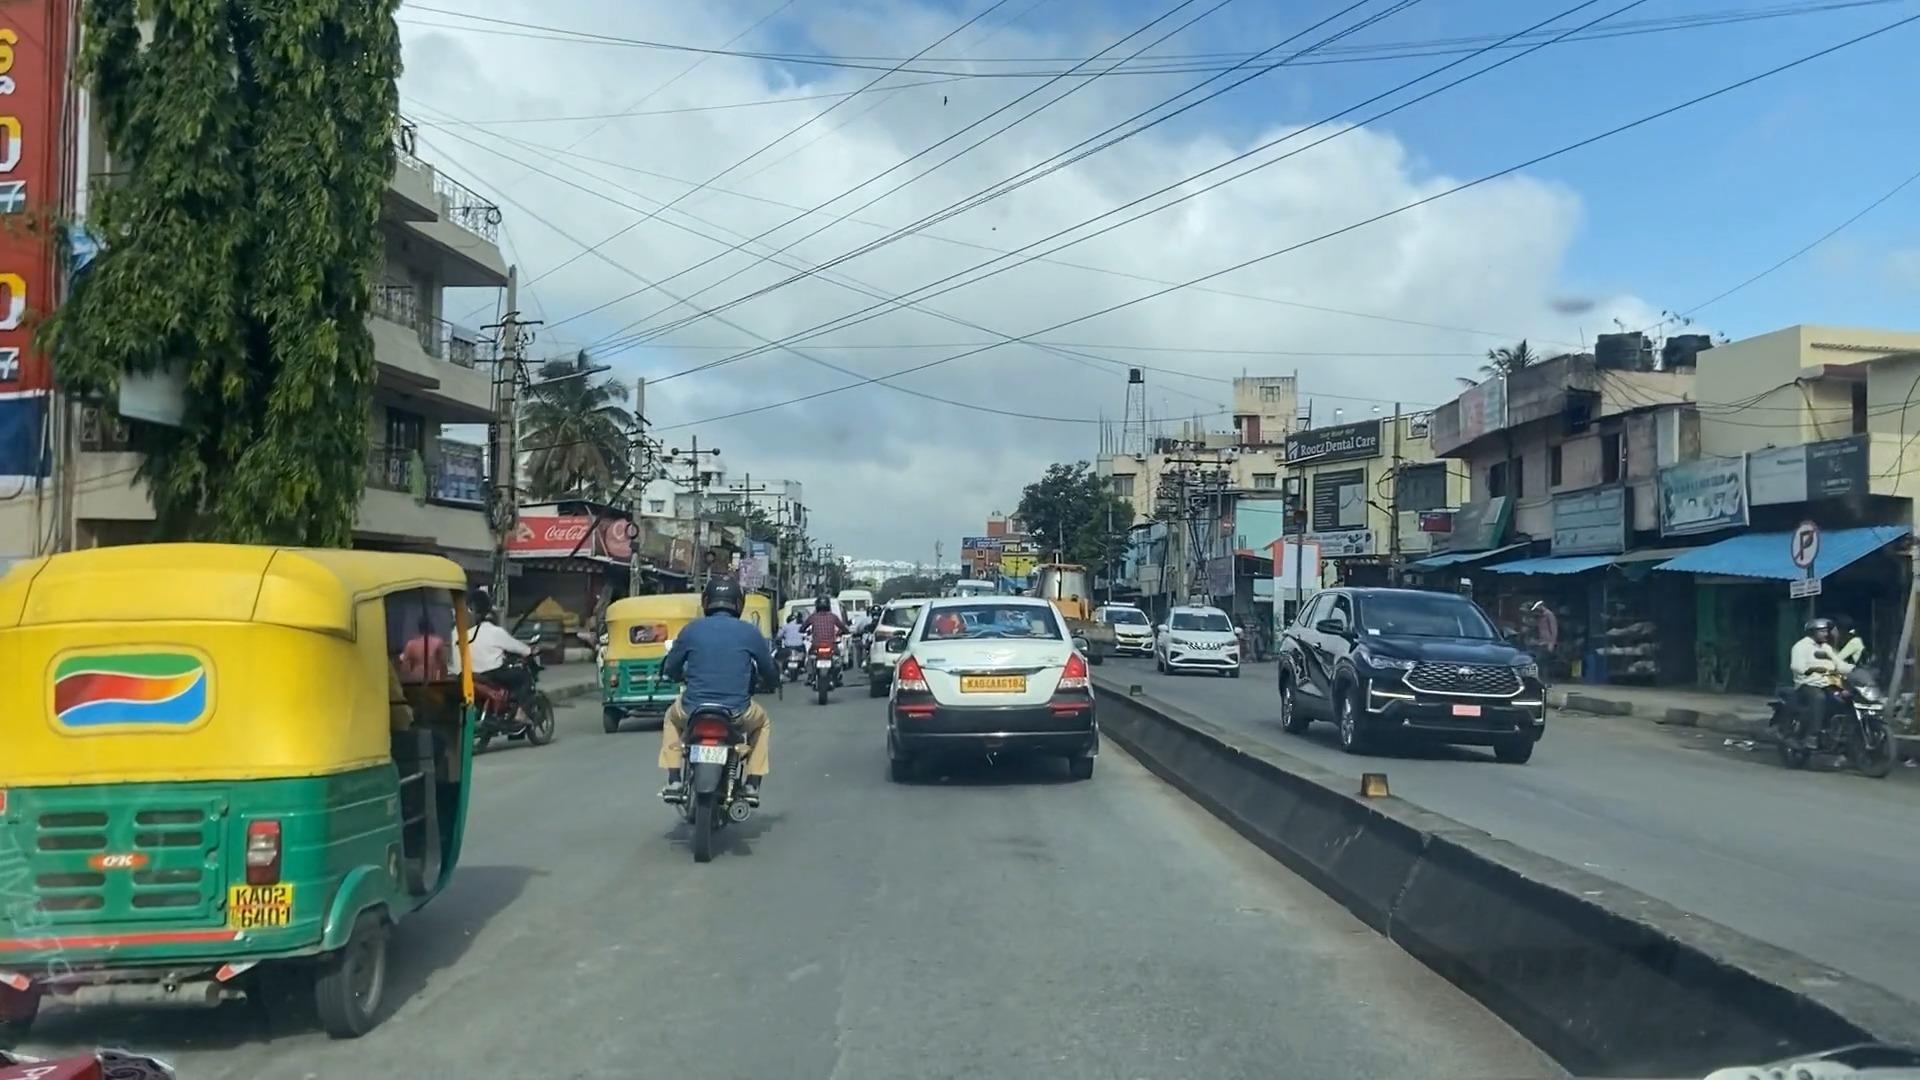LMV: (4, 562, 469, 1014), (901, 582, 1093, 785), (665, 554, 762, 849)
